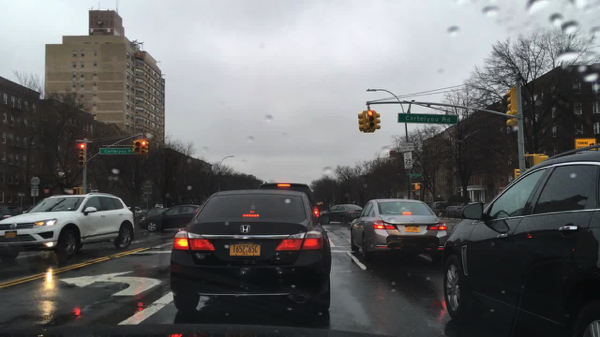car: (440, 142, 599, 337), (170, 189, 332, 313), (0, 192, 135, 261), (348, 198, 447, 262), (257, 180, 322, 226), (139, 205, 201, 234), (322, 203, 362, 226), (0, 205, 22, 222), (442, 205, 464, 219), (431, 200, 448, 217), (126, 205, 142, 220), (147, 207, 165, 217)
traffic light: (504, 86, 519, 130), (527, 154, 552, 169), (365, 109, 376, 132), (77, 143, 86, 168), (358, 111, 366, 132), (512, 168, 521, 182), (133, 139, 140, 156), (412, 182, 425, 191), (72, 186, 83, 196), (140, 140, 146, 157), (376, 112, 381, 131), (147, 139, 152, 156)
traffic sign: (397, 114, 459, 125), (572, 135, 597, 153), (98, 147, 137, 156), (403, 152, 412, 171), (30, 177, 40, 187), (402, 143, 412, 152), (31, 189, 39, 198), (411, 173, 423, 179), (42, 191, 49, 196)
